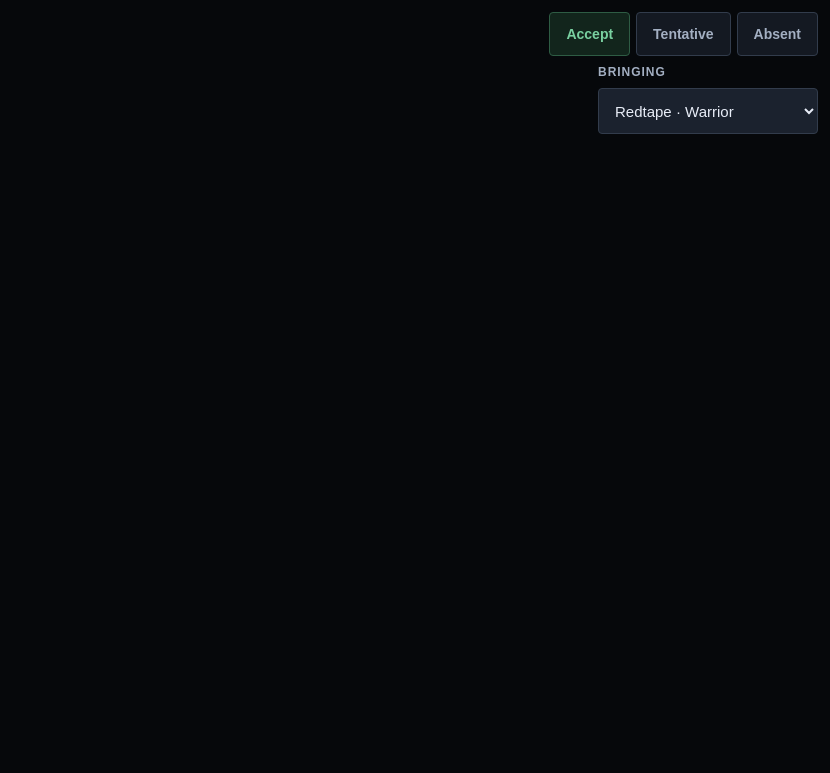
Test: RaidResponseControl character choice › reverts a forbidden switch and shows the server message
Select "Triplicate · Mage" in the dropdown labelled "Bringing": (708, 111) [598,88,818,134]
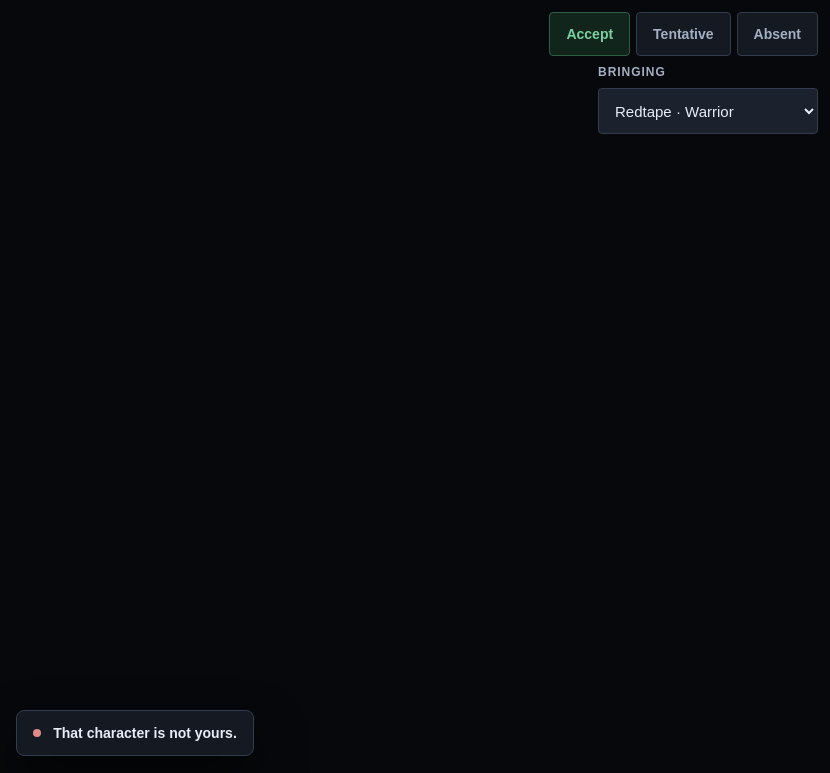
Check: the text "That character is not yours." is shown, box [53,723,237,743]
